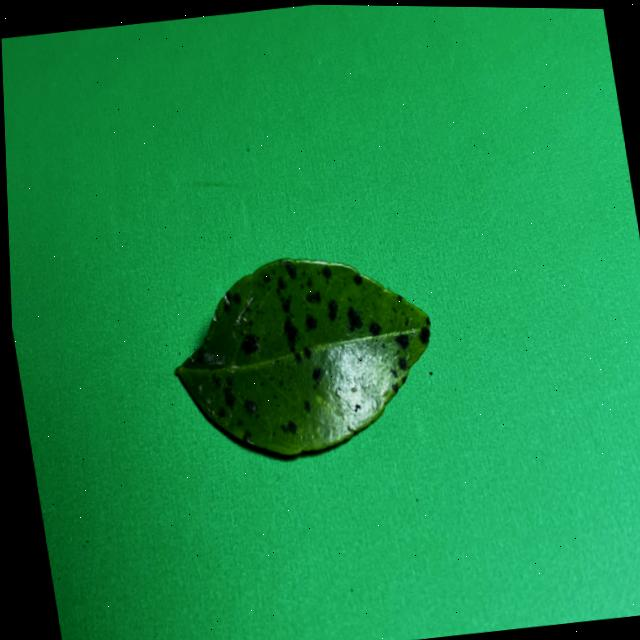sooty_mold: (175, 258, 429, 453)
